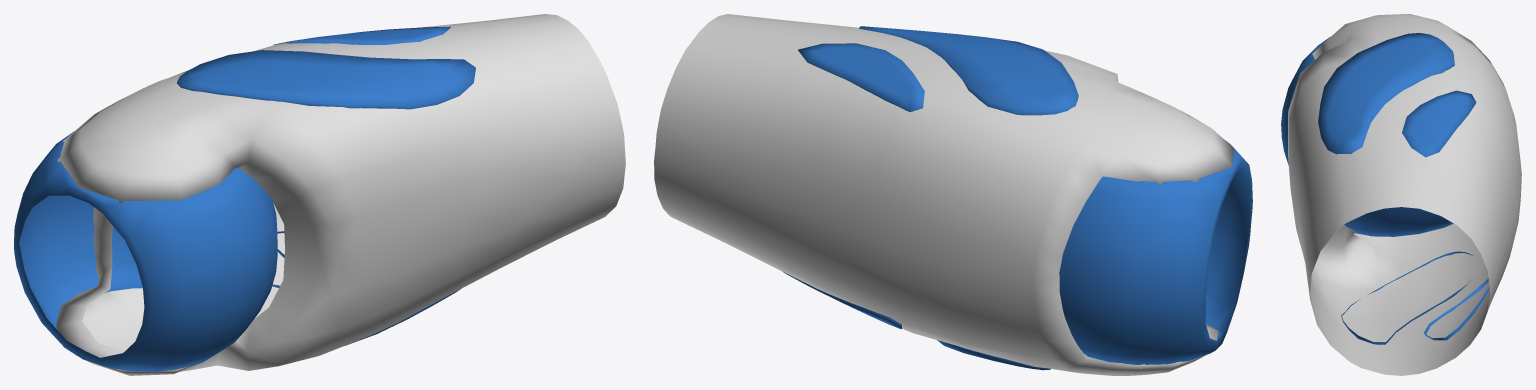
The model's file is LElbowYaw.dae.
3 views of the same model, side by side, from view 1: azimuth 30°, elevation 25°; view 2: azimuth 150°, elevation 25°; view 3: azimuth 270°, elevation 25° (orthographic). The views are drawn at different scales.
Visible parts, largest first — view 1: LElbowYaw; view 2: LElbowYaw; view 3: LElbowYaw.
Part boxes in pixels (x1,y1,x2,y2): LElbowYaw: (14, 14, 625, 375); LElbowYaw: (654, 14, 1252, 375); LElbowYaw: (1281, 14, 1521, 375).
Bounding box in the file's own units: 0.2117 × 0.0965 × 0.1038.
